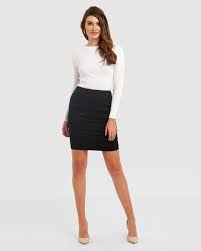F_tailored skirt: (63, 84, 123, 155)
